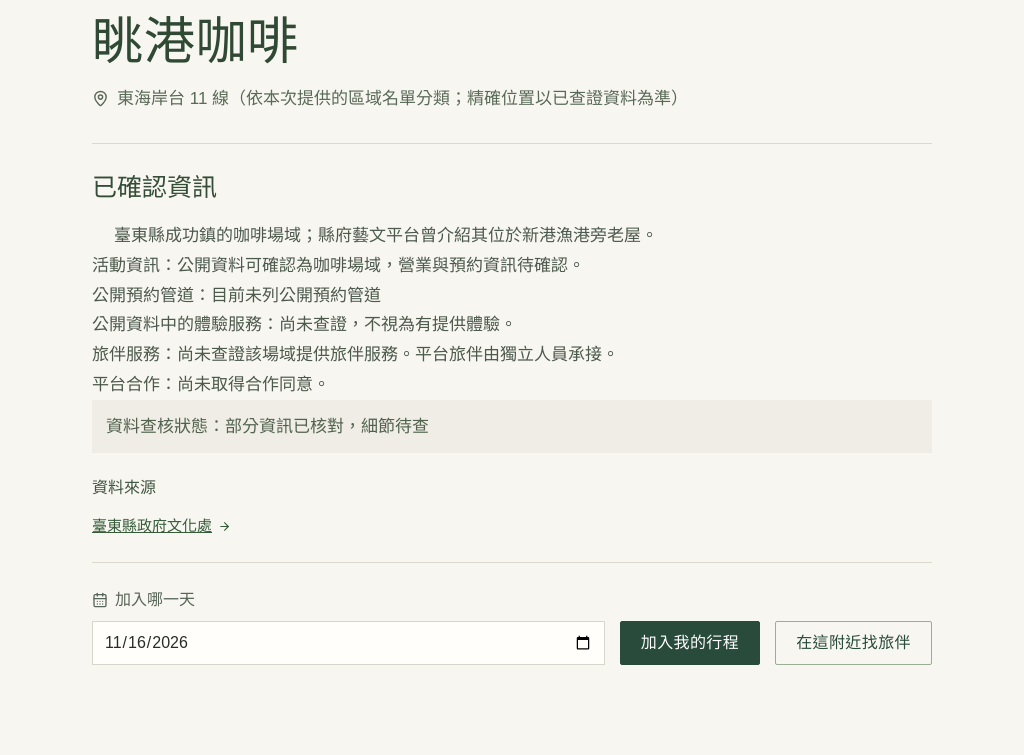
Scenario: regional exploration › adds a candidate place to the selected date as a draft and leaves bookings untouched
The width and height of the screenshot is (1024, 755).
(page scrolled)
Click the button "加入我的行程".
click(690, 643)  # box [620,621,760,665]
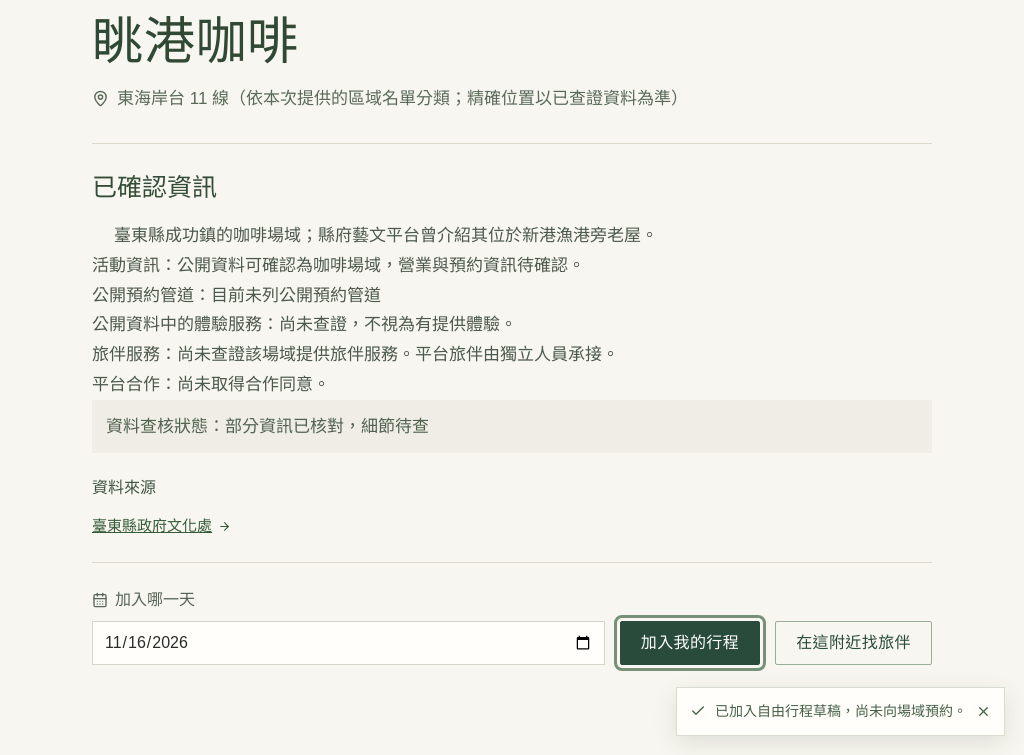
Expected: the heading "眺港咖啡" is shown, [92,13,299,70]
Now the text "已加入自由行程草稿，尚未向場域預約。" is shown, box [676,687,1005,736]
